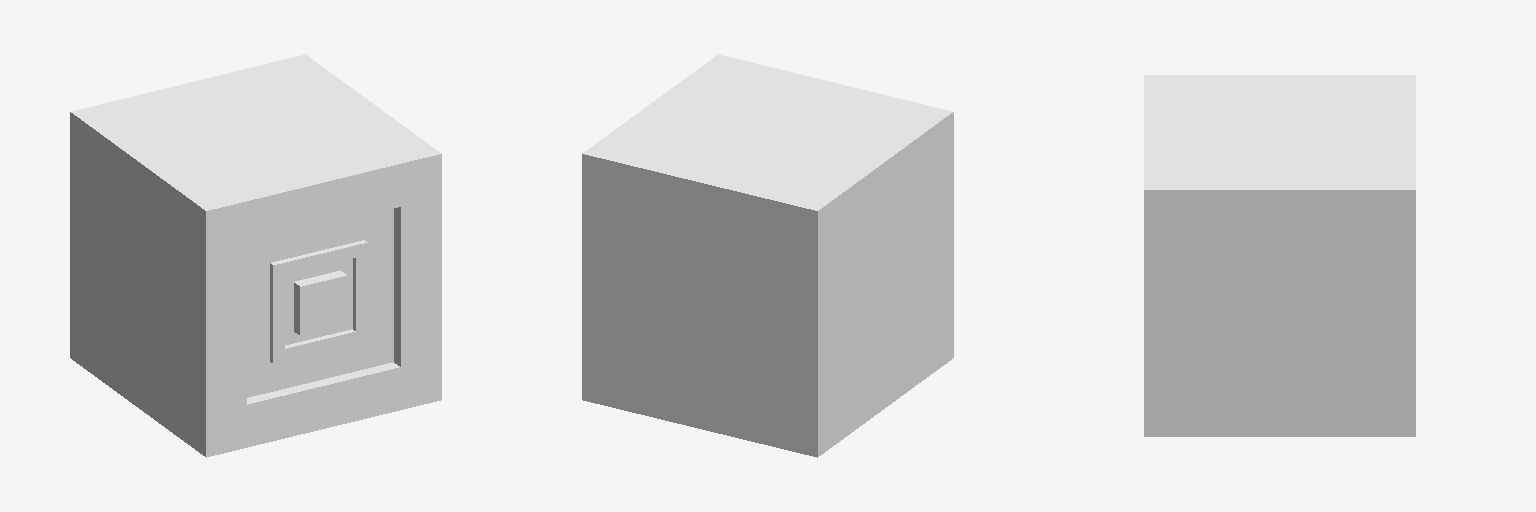
File: eye.obj
3 views of the same model, side by side, from view 1: azimuth 30°, elevation 25°; view 2: azimuth 150°, elevation 25°; view 3: azimuth 270°, elevation 25° (orthographic).
Parts seen in each view (by area): view 1: object 1; view 2: object 1; view 3: object 1.
Part boxes in pixels (x1,y1,x2,y2): object 1: (70,54,441,457); object 1: (582,54,953,457); object 1: (1144,75,1415,436).
Bounding box in the file's own units: 4 × 4 × 4.